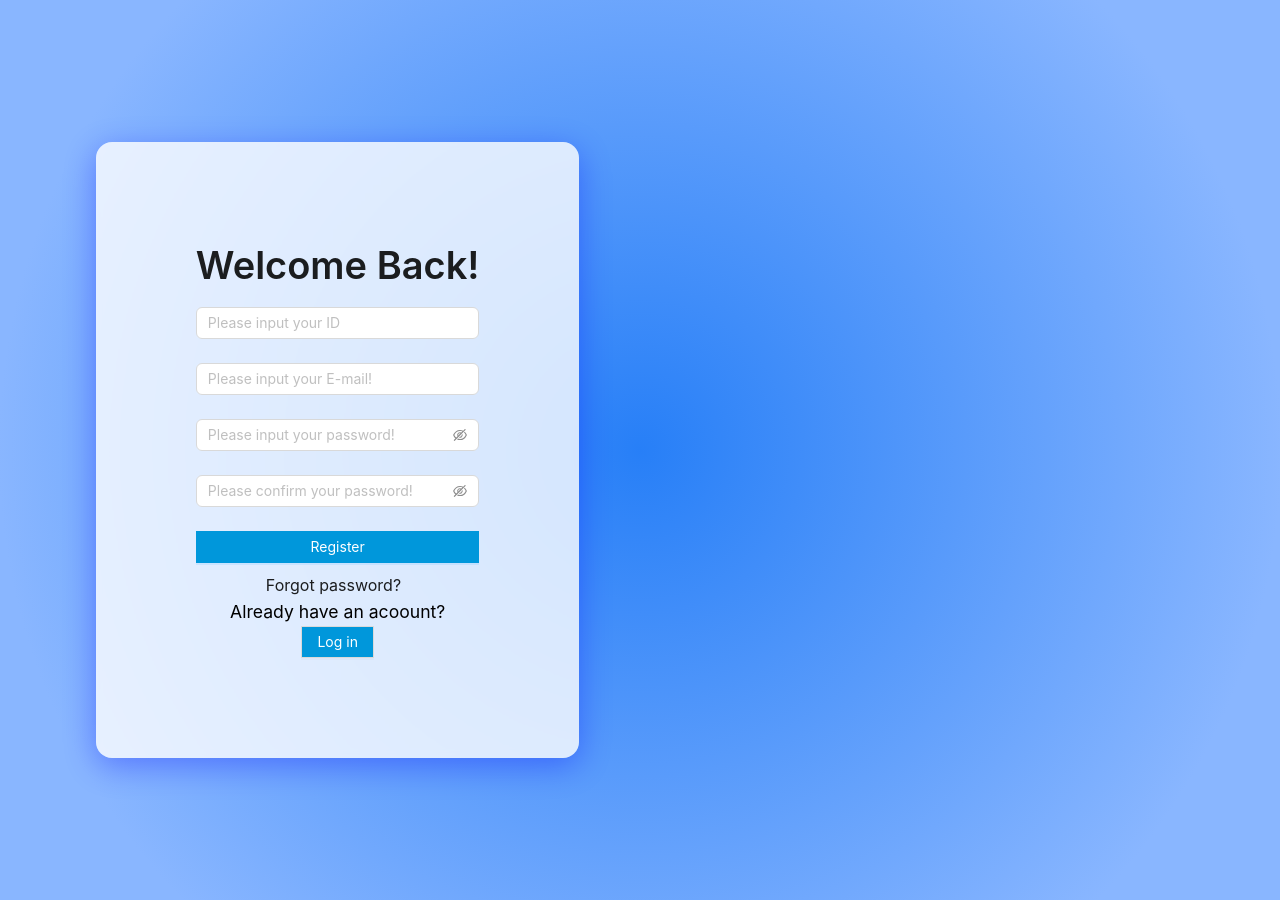
Scenario: Register component › form validation works as expected
The width and height of the screenshot is (1280, 900).
Click the button "Register" at (338, 547), box top-left (196, 531), bottom-right (480, 563)
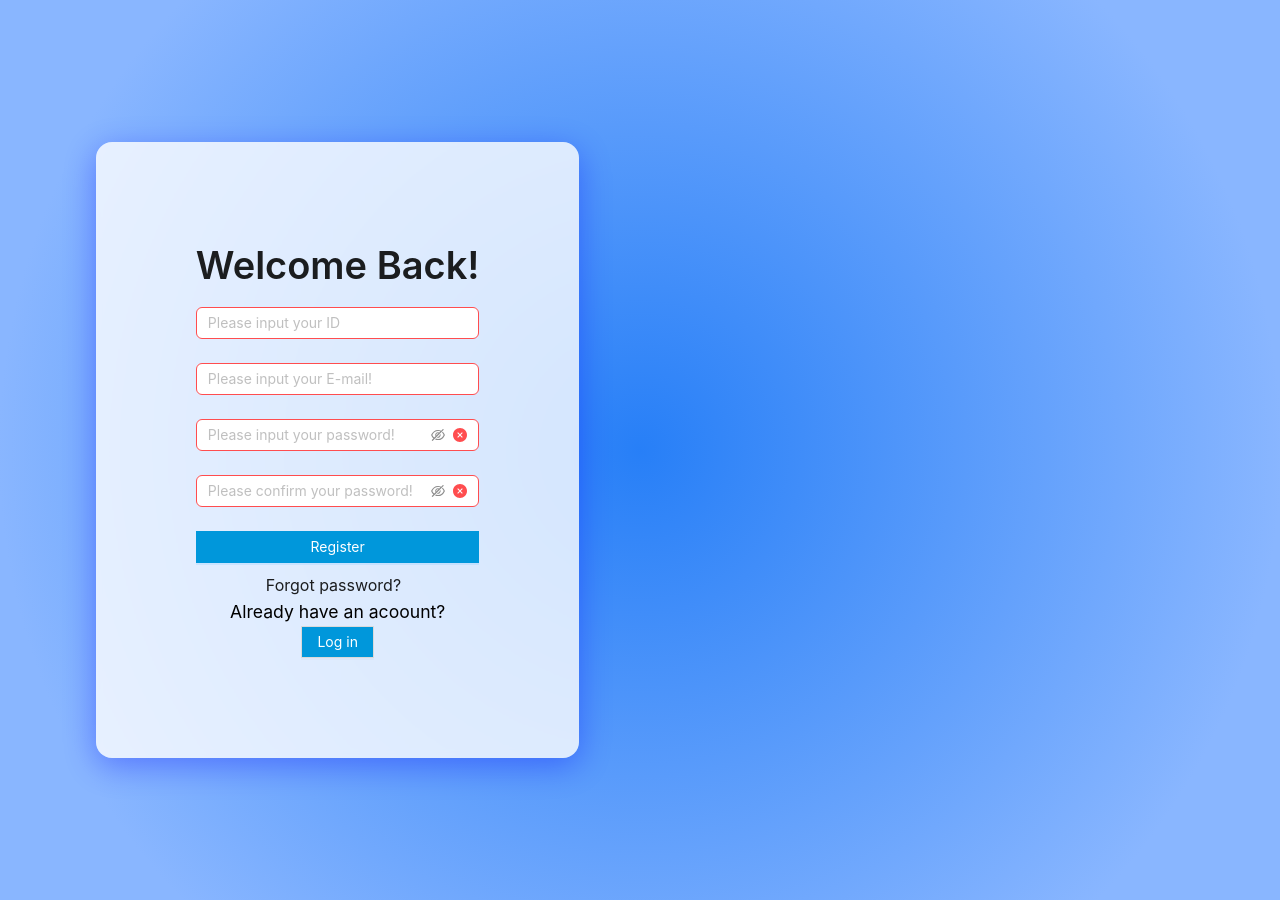
Type "simple" into the password field with placeholder "Please input your password!" at (318, 435), box top-left (208, 424), bottom-right (428, 446)
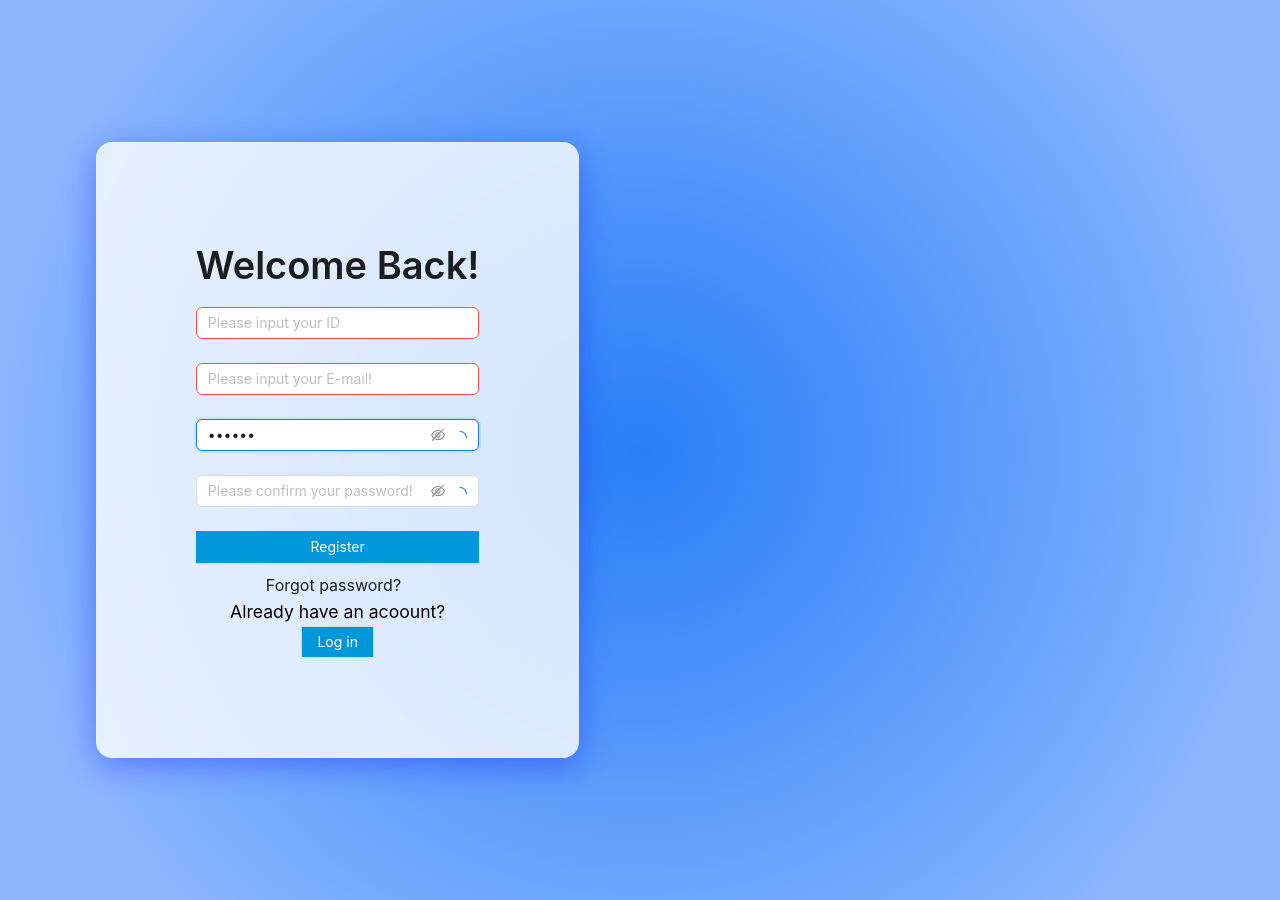
Type "simple" into the password field with placeholder "Please confirm your password!" at (318, 491), box top-left (208, 480), bottom-right (428, 502)
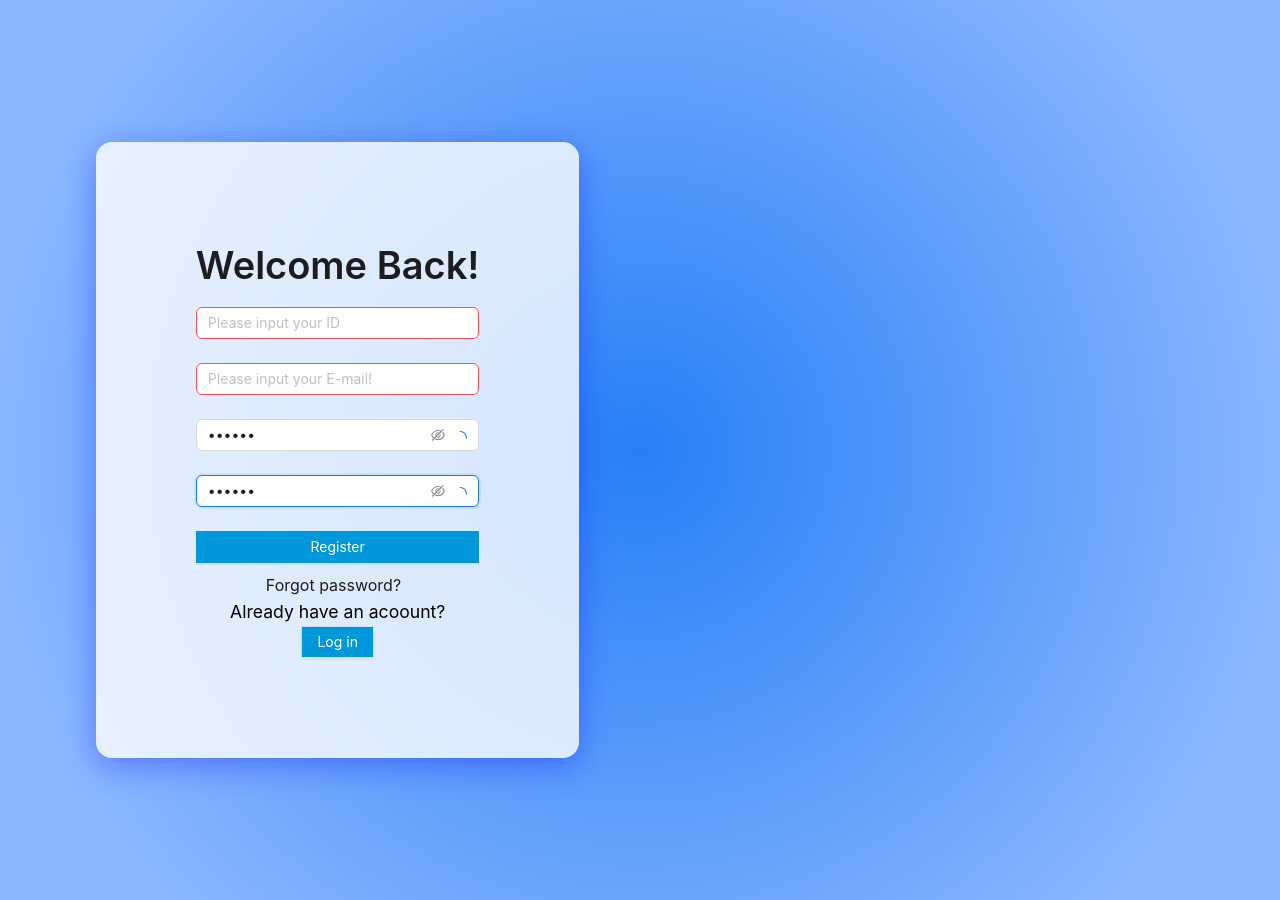
Click the button "Register" at (338, 547), box top-left (196, 531), bottom-right (480, 563)
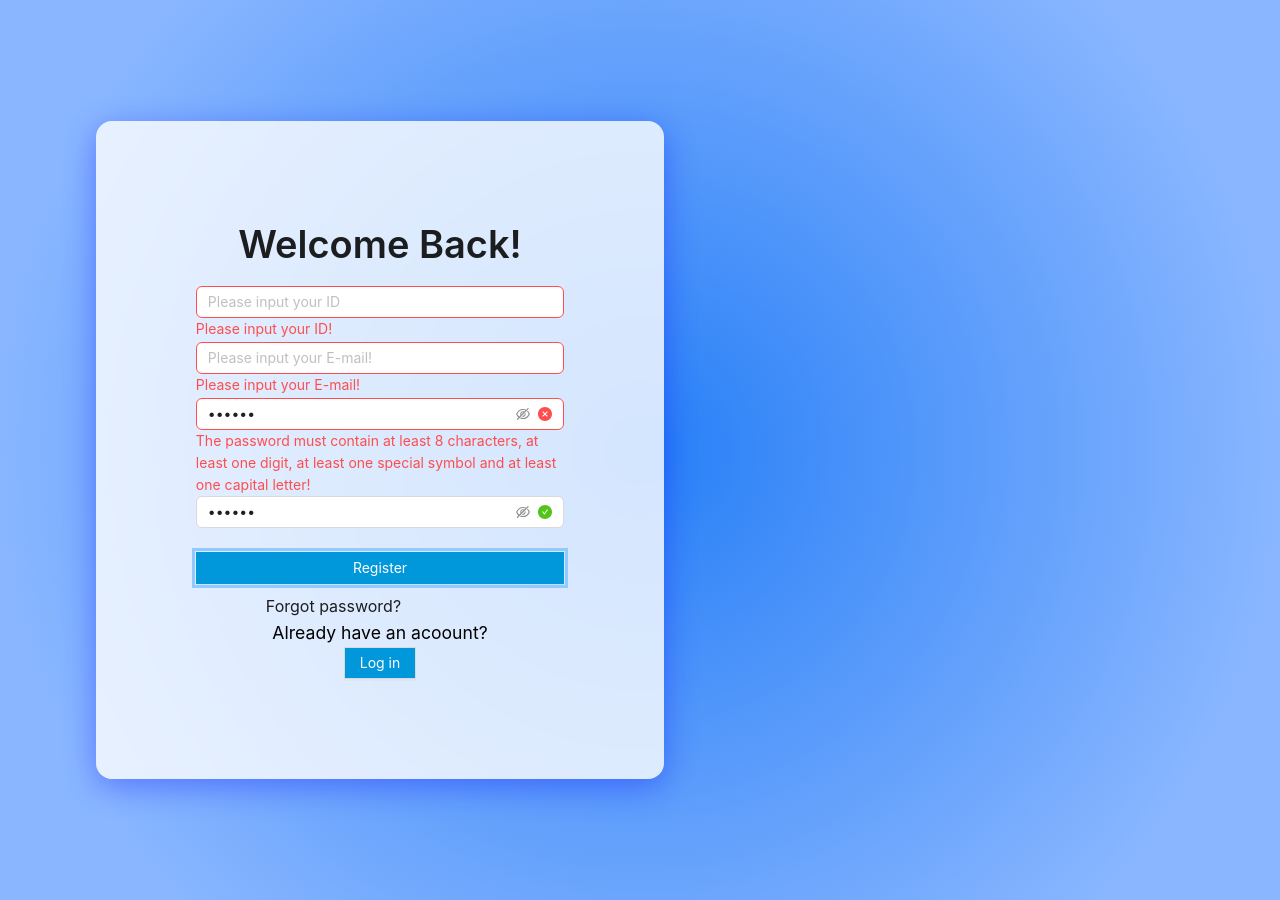
Expected: the text "The password must contain at least 8 characters, at least one digit, at least one special symbol and at least one capita" is shown, top-left (196, 432), bottom-right (556, 493)
